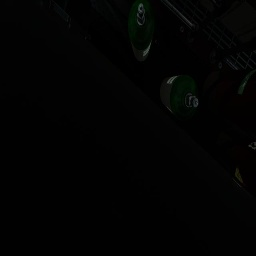0: (160, 75, 198, 121), (128, 0, 154, 61)
NitrogenTank ,: (202, 68, 256, 135), (216, 127, 256, 198)
